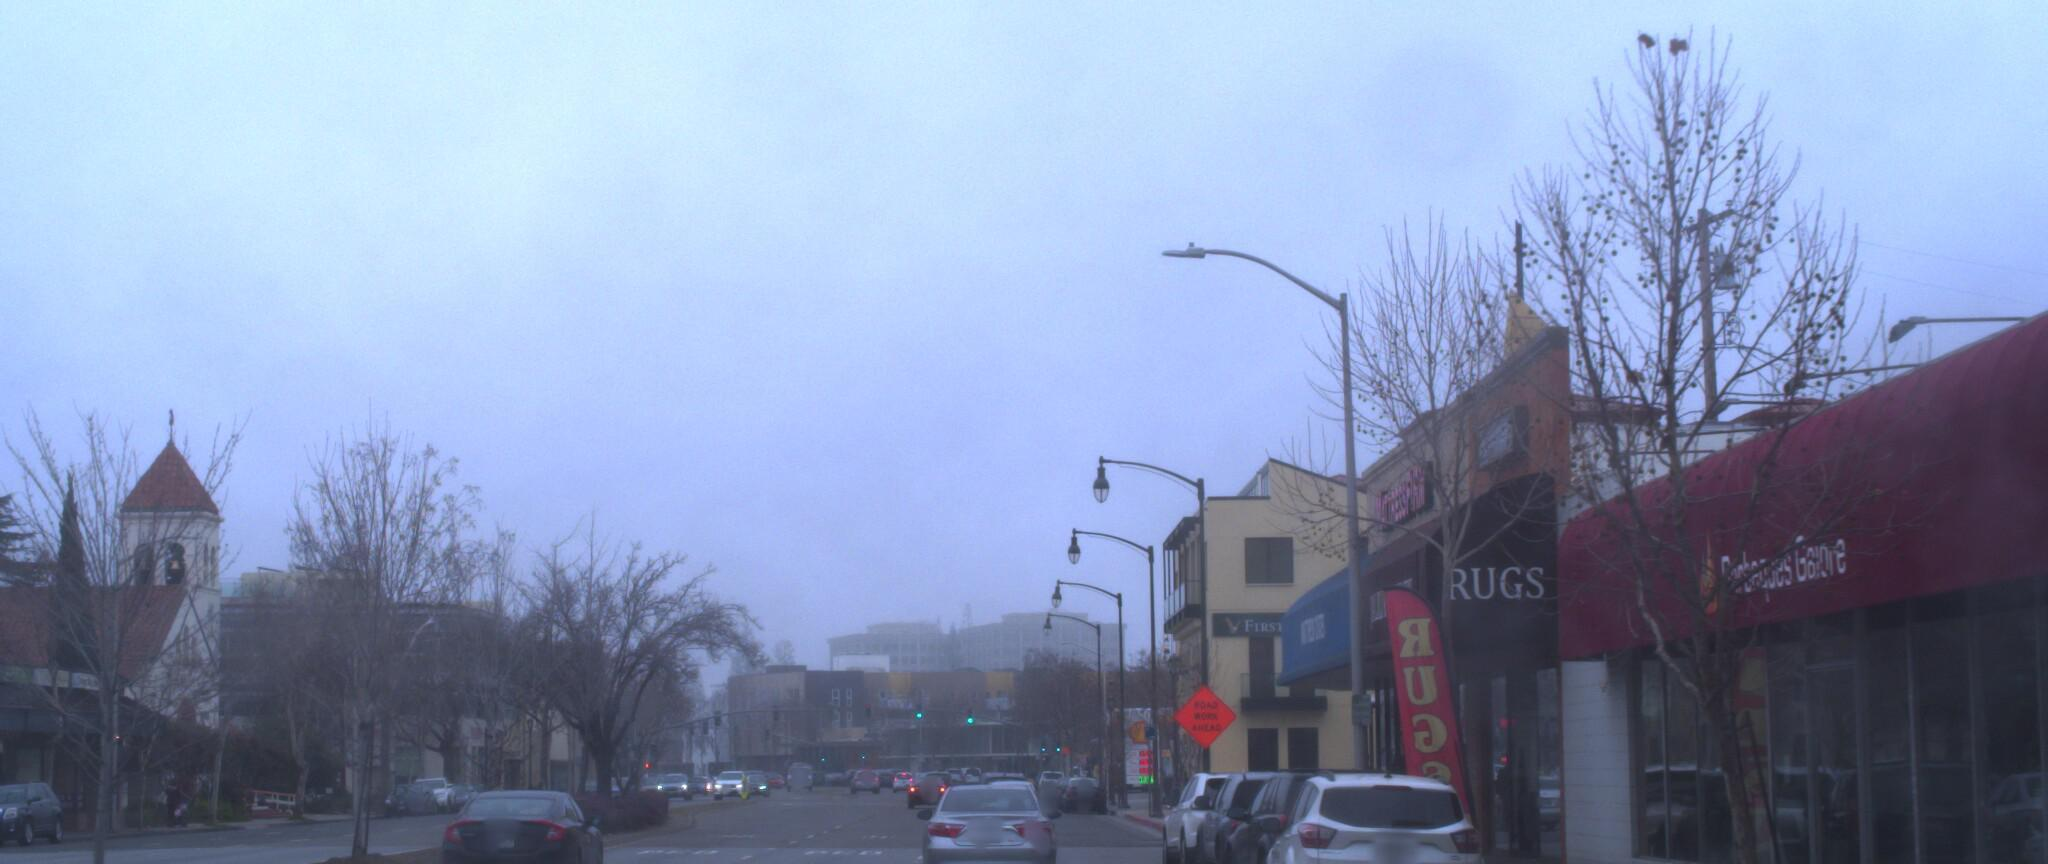car: (1250, 758, 1503, 864), (1211, 758, 1425, 864), (1186, 760, 1364, 864), (1149, 761, 1313, 864), (421, 777, 613, 864), (905, 758, 1055, 864), (0, 767, 67, 844)
